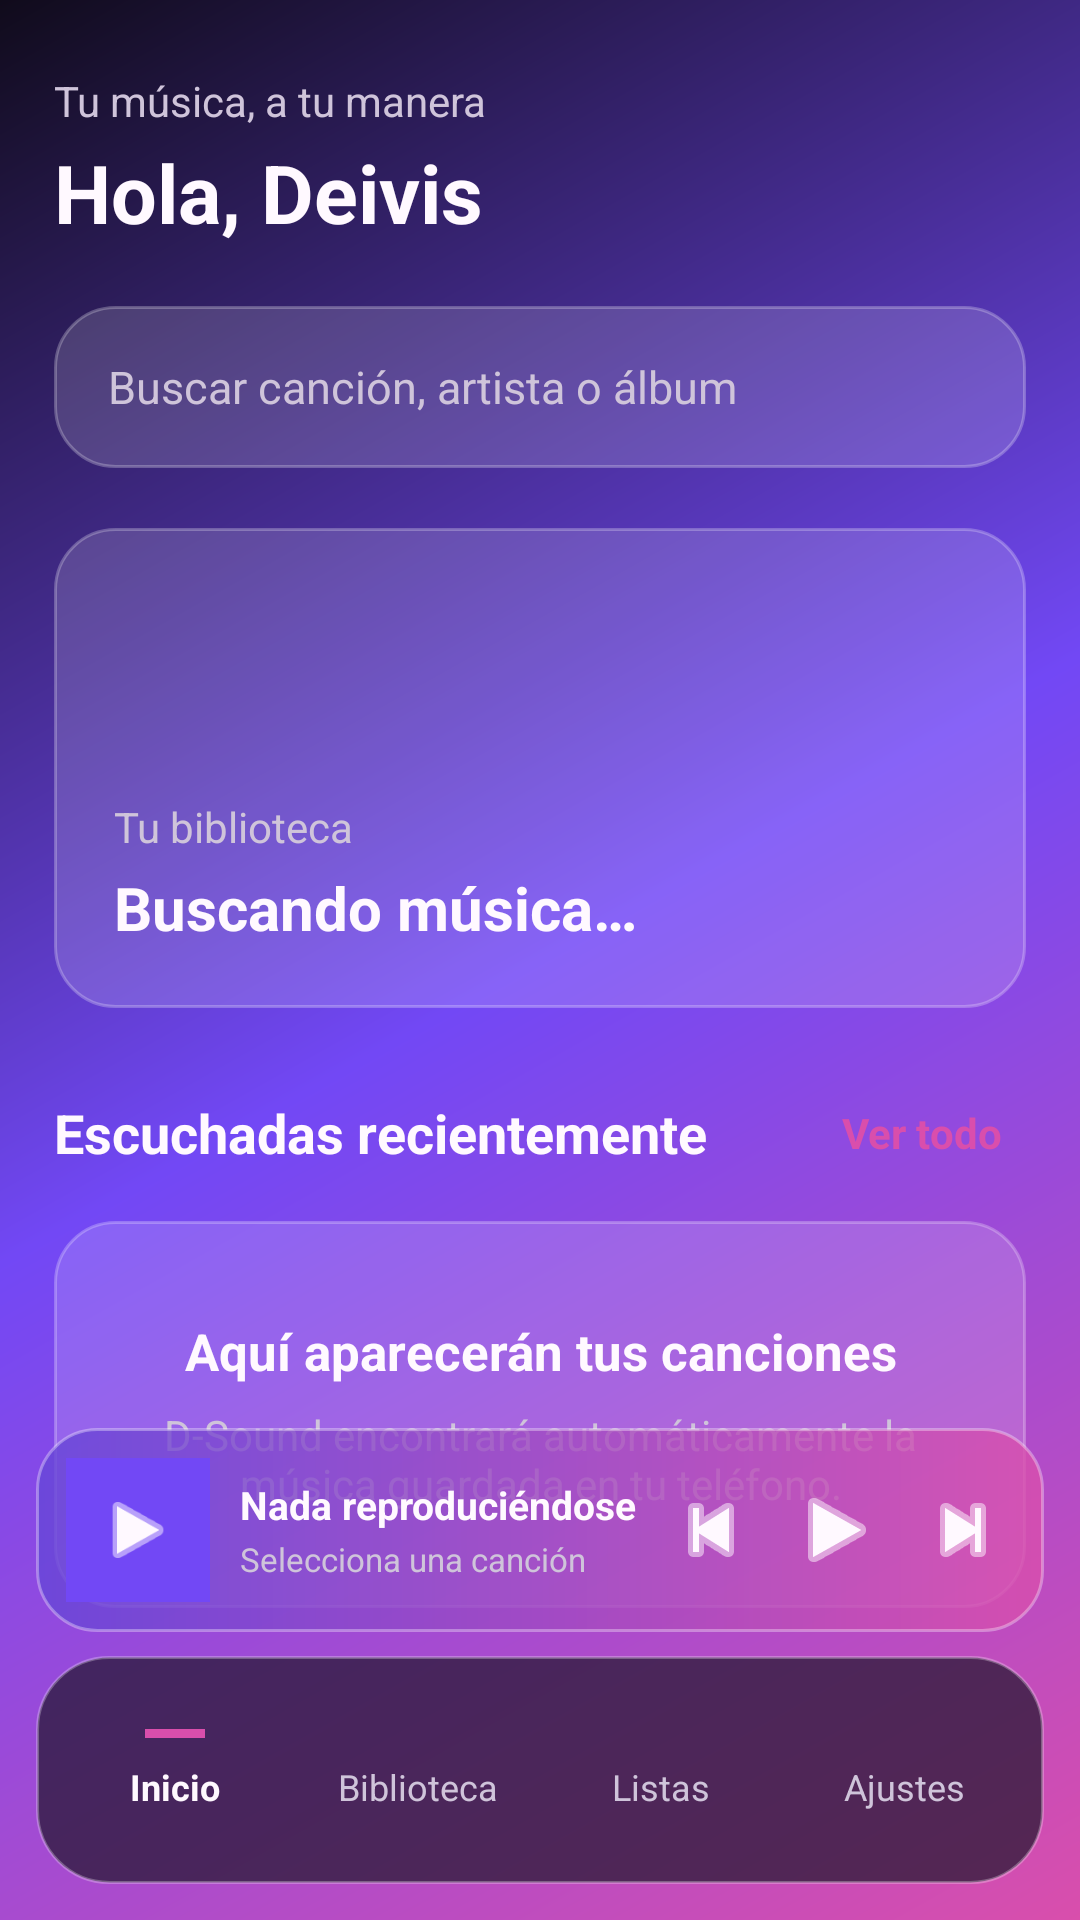

Locate icon controls on the screen. Image size 1080px×1920px, boxes as [left=x1, top=y1, right=x2, bottom=y2].
Canción anterior: [left=688, top=1503, right=734, bottom=1557]
Canción siguiente: [left=940, top=1503, right=986, bottom=1557]
Reproducir: [left=808, top=1498, right=866, bottom=1562]
